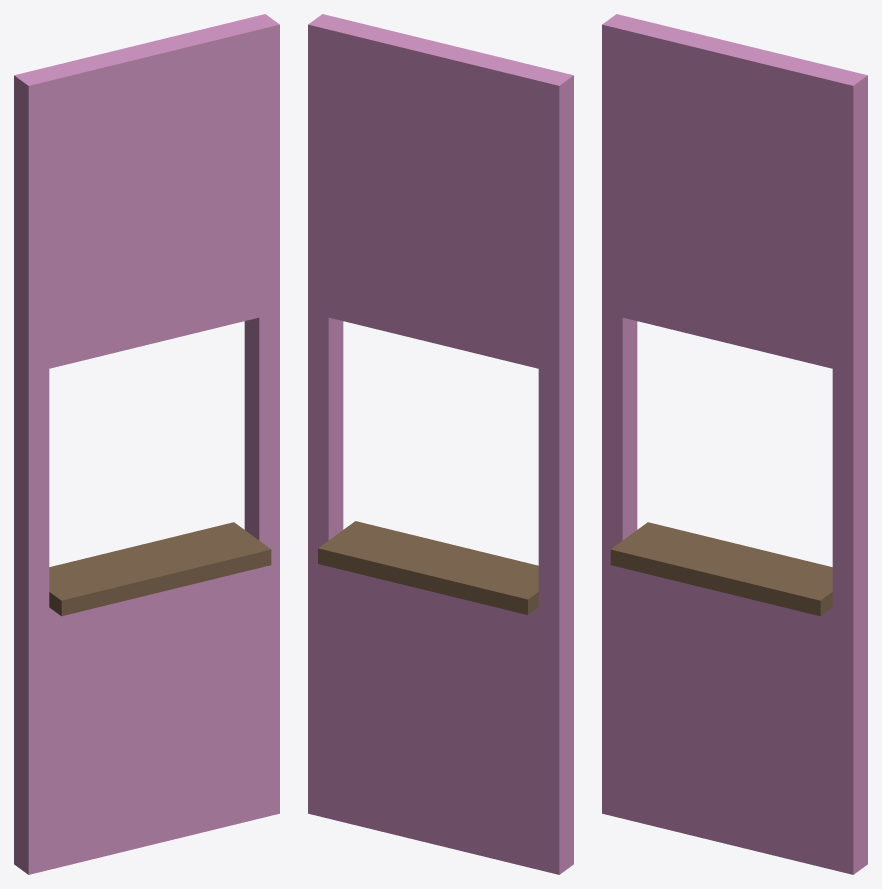
File: Mesh_Wall_G2.fbx
3 views of the same model, side by side, from view 1: azimuth 30°, elevation 25°; view 2: azimuth 150°, elevation 25°; view 3: azimuth 330°, elevation 25° (orthographic).
Parts seen in each view (by area): view 1: Mesh_Wall_G2; view 2: Mesh_Wall_G2; view 3: Mesh_Wall_G2.
Boxes of the visible parts, x1,y1,x2,y2 form: Mesh_Wall_G2: (14, 14, 279, 874); Mesh_Wall_G2: (308, 14, 573, 874); Mesh_Wall_G2: (602, 14, 867, 874).
Bounding box in the file's own units: 1 × 3 × 0.2574.
